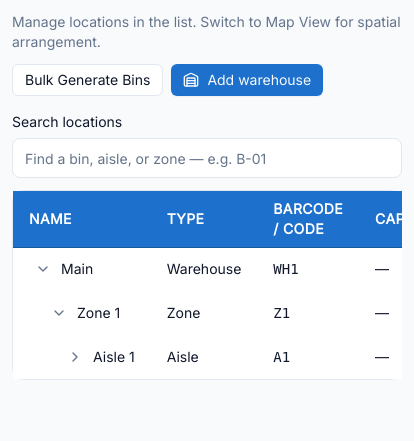
Test: WarehouseVisualizer › renders aisle and bin rows for a deeper hierarchy after expand or search
What coordinates should you click on to do the following:
click the button with test id "warehouse-expand-a-1"
I would click on:
 (75, 357)
Its box is [61,343,89,371].
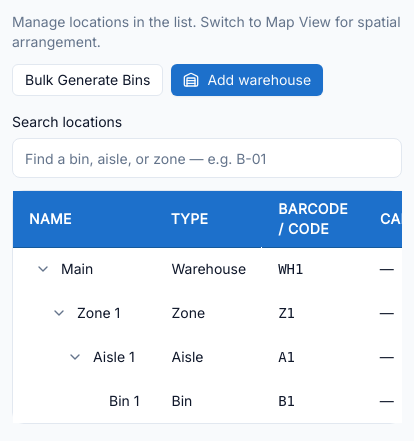
Expected: the text "Bin 1" is shown, [109,391,140,411]
